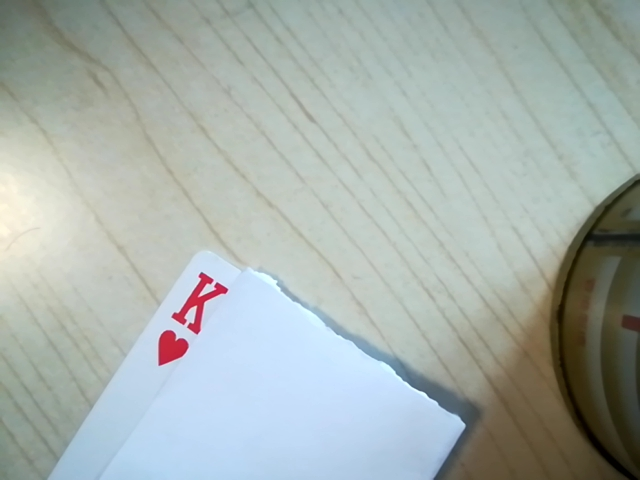hx k: (145, 270, 229, 369)
